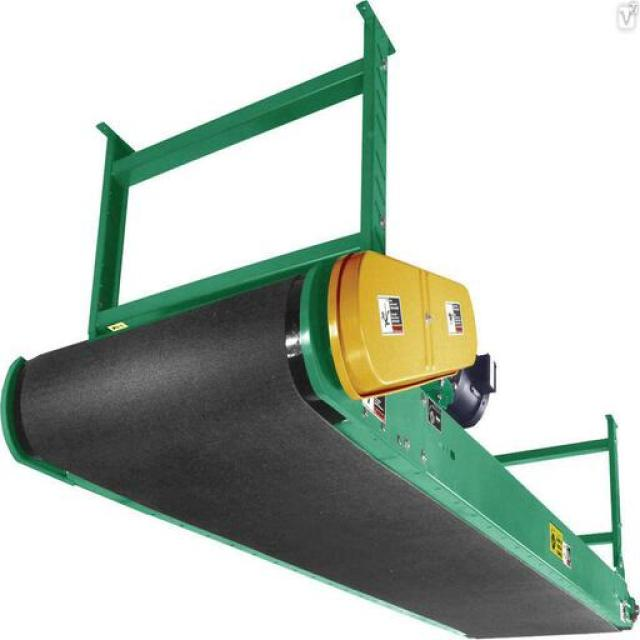conveyor: (7, 268, 627, 638), (192, 395, 193, 395)
